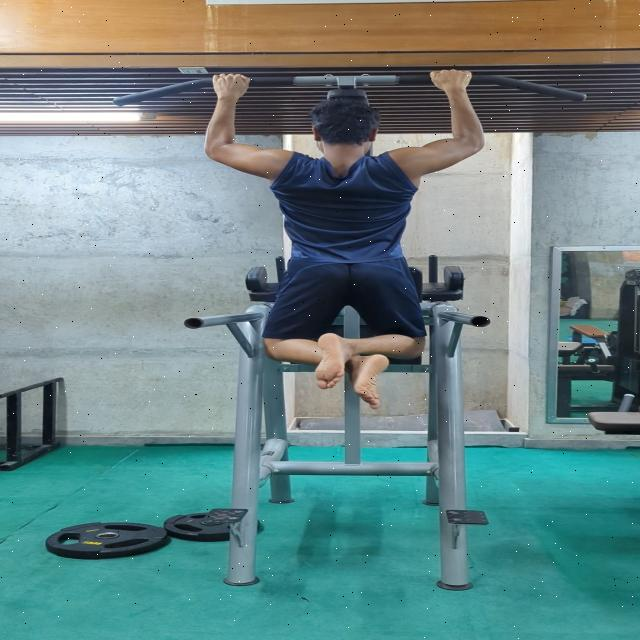Normal_PullUps: (199, 64, 492, 410)
